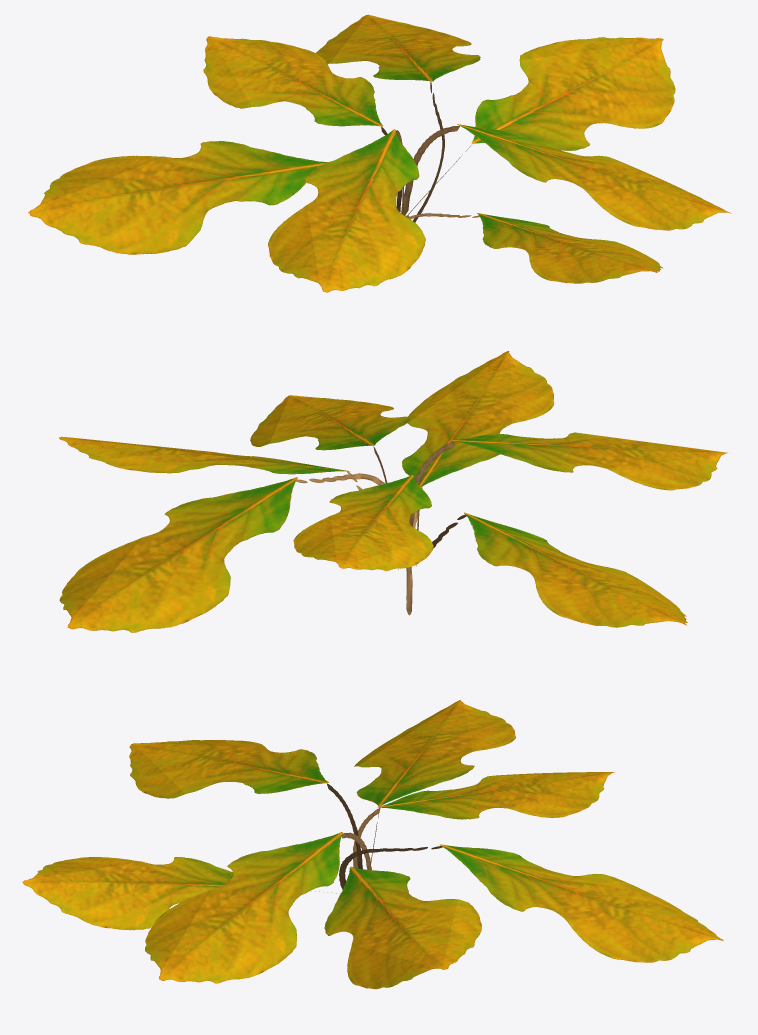
The model's file is Row Root A6.fbx.
The picture shows the model from 3 angles, top to bottom: view 1: azimuth 30°, elevation 25°; view 2: azimuth 150°, elevation 25°; view 3: azimuth 270°, elevation 25°; orthographic projection. The views are drawn at different scales.
Visible parts, largest first — view 1: Row Root A6; view 2: Row Root A6; view 3: Row Root A6.
Boxes of the visible parts, <box> form: Row Root A6: <box>28,14,731,292</box>; Row Root A6: <box>59,351,727,632</box>; Row Root A6: <box>22,700,723,989</box>.
Bounding box in the file's own units: 215 × 54.19 × 213.
